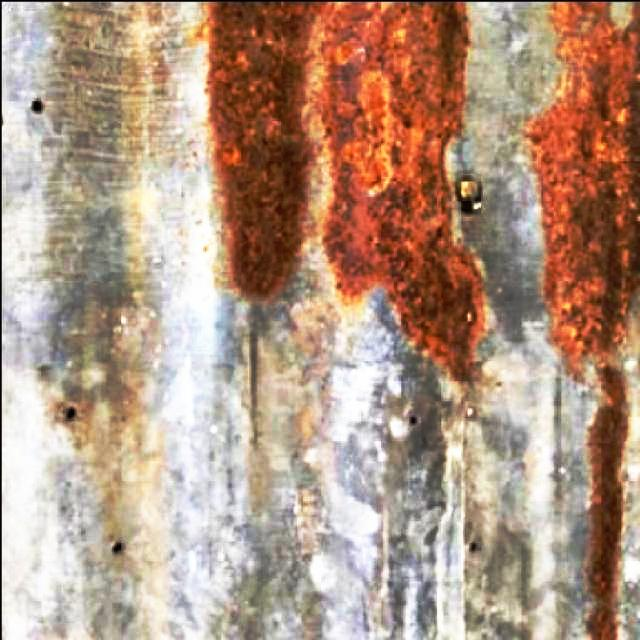Corrosion: (323, 3, 485, 380), (531, 3, 640, 360), (208, 3, 315, 296), (589, 364, 630, 640)
